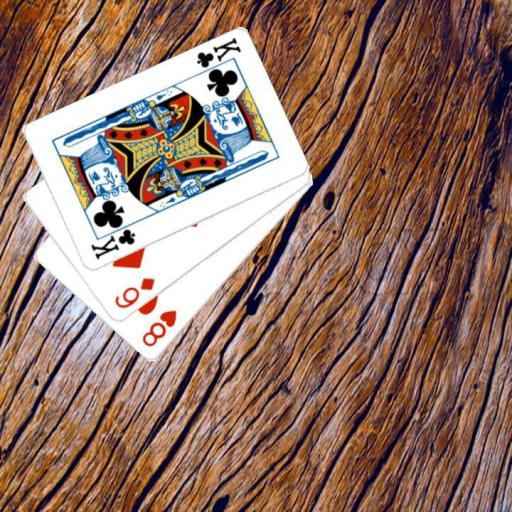6D: (111, 274, 156, 311)
8H: (139, 307, 179, 349)
KC: (88, 218, 137, 262), (193, 35, 243, 78)
